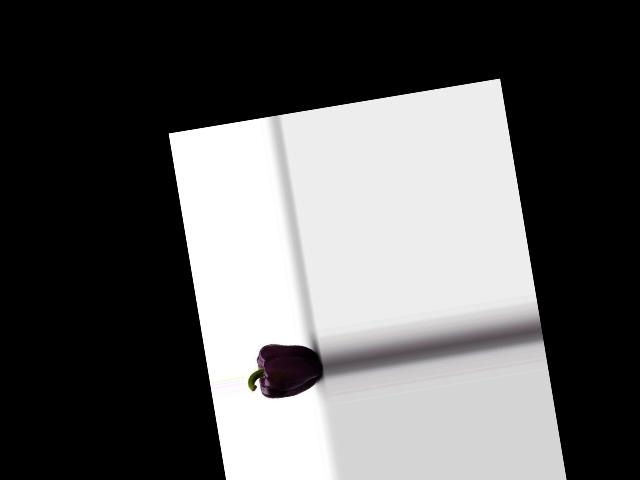bell_pepper: (242, 332, 325, 408)
